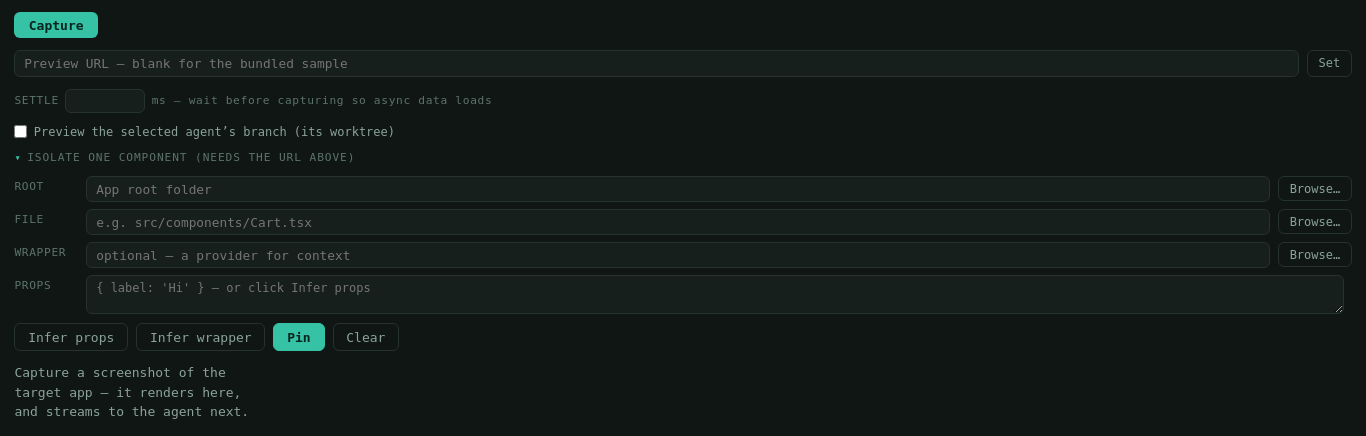
it: Preview › picks the app root and files with the native dialogs
Click the button with aria-label "Choose app root". click: coordinates (1315, 189)
box: [1278,176,1352,201]
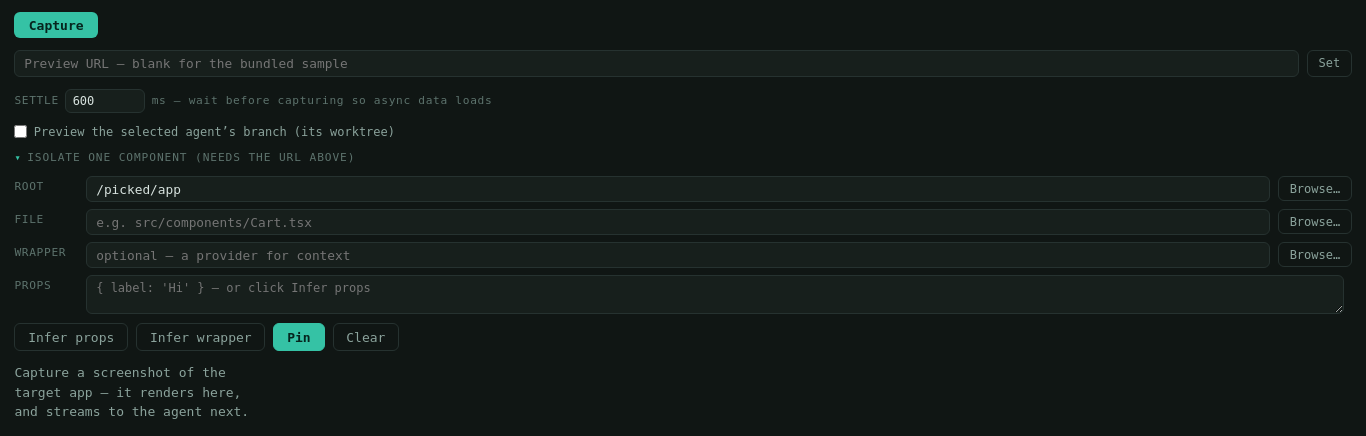
Result: the field named "Component app root" holds "/picked/app" at [86,176,1270,202]
Click the button with aria-label "Choose component file". click: coordinates (1315, 222)
box: [1278,209,1352,234]
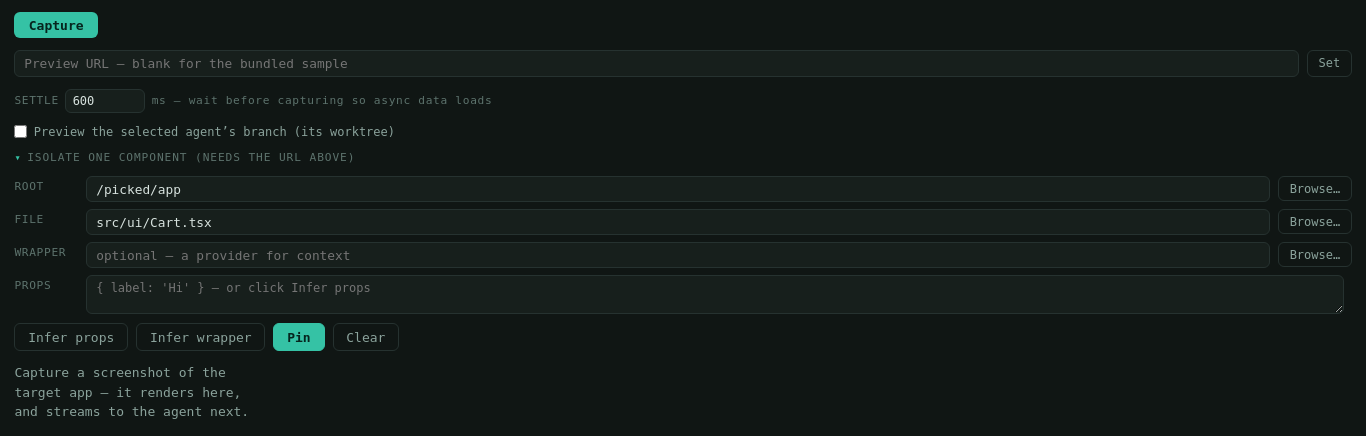
Result: the field named "Component file" holds "src/ui/Cart.tsx" at [86,209,1270,235]
Click the button with aria-label "Choose wrapper file". click: coordinates (1315, 255)
box: [1278,242,1352,267]
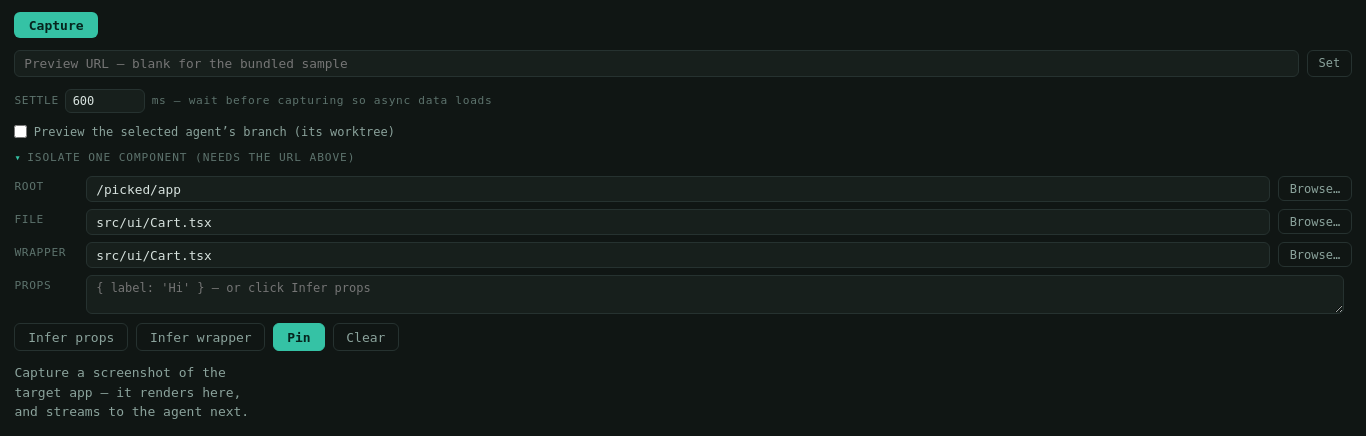
Result: the field named "Wrapper file" holds "src/ui/Cart.tsx" at [86,242,1270,268]
